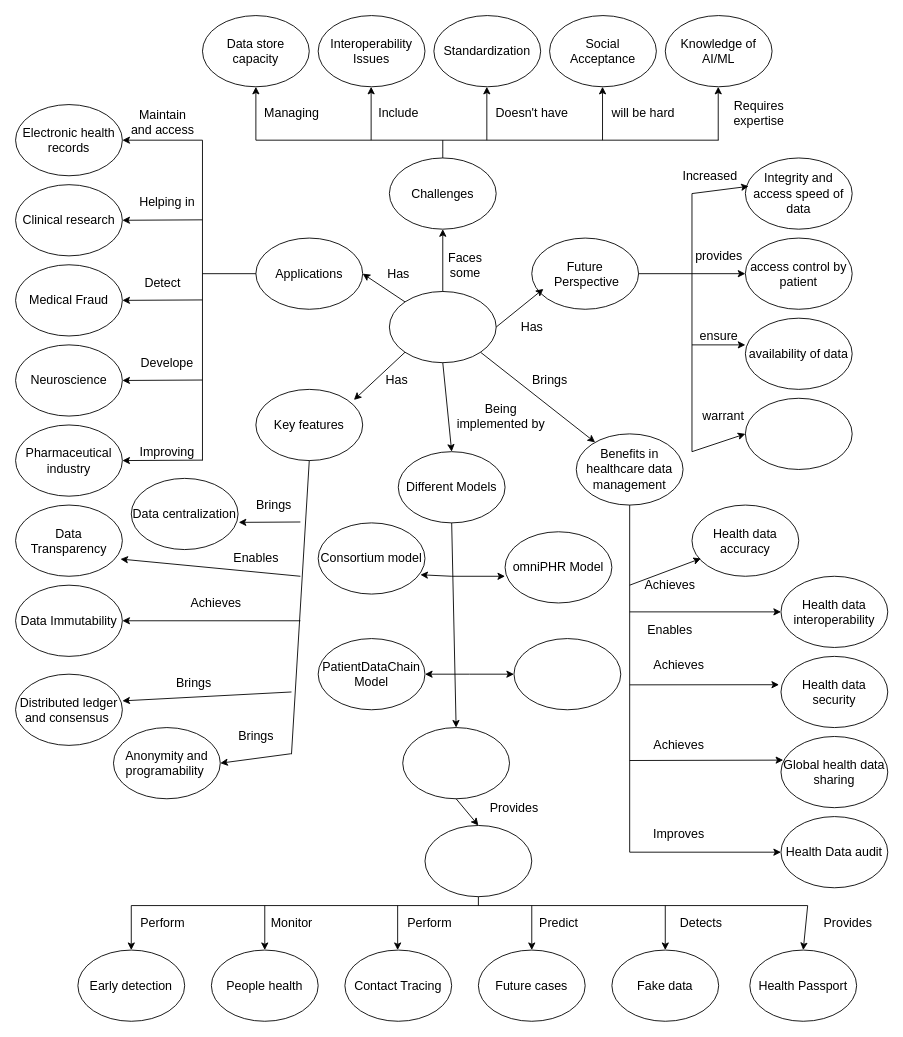
Image size: 903x1037. Some labels were removed from this diagram. The shapes that lost their labels are listed below. From the top down, each one's centre as x and y in pixels, then its label:
[442,327]: Blockchain in healthcare
[798,433]: better treatment
[567,674]: Lightweight blockchain model
[456,763]: iBlock Model
[478,861]: Features
